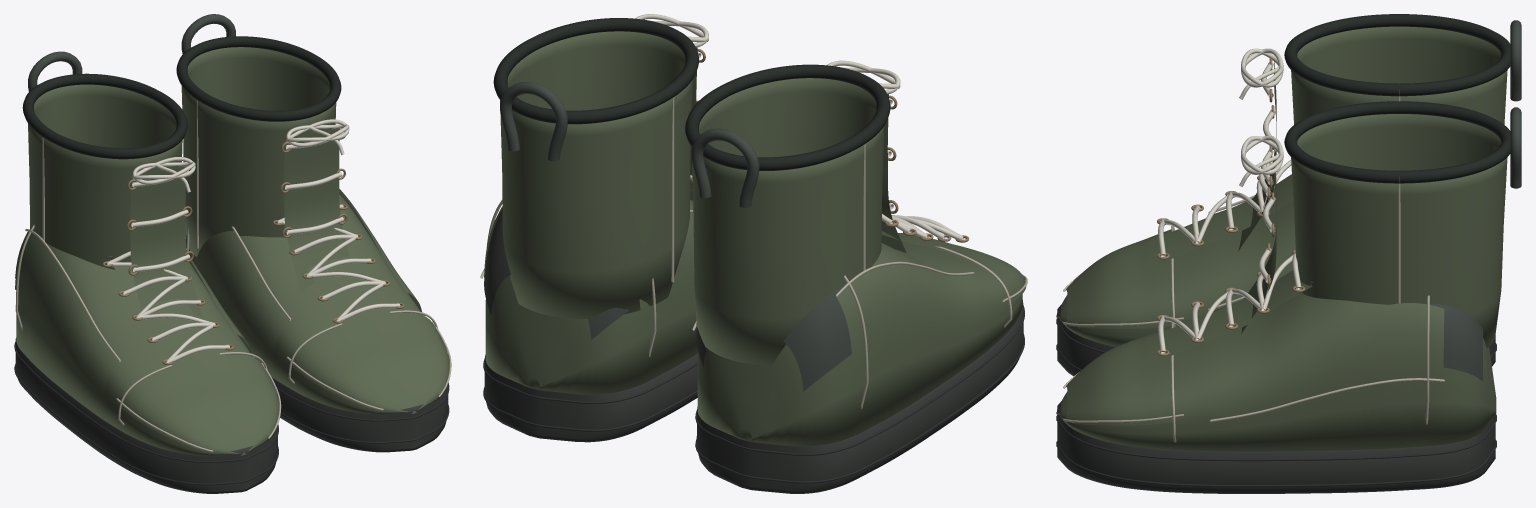
File: ridge.glb
3 views of the same model, side by side, from view 1: azimuth 30°, elevation 25°; view 2: azimuth 150°, elevation 25°; view 3: azimuth 270°, elevation 25° (orthographic). The views are drawn at different scales.
Visible parts, largest first — view 1: boot-01_L_AnkleQuarterComplete, boot-01_R_AnkleQuarterComplete, boot-01_R_UpperComplete, boot-01_L_UpperComplete, boot-01_L_ToeCap, boot-01_R_ToeCap, boot-01_R_OutsoleComplete, boot-01_L_BootTongueComplete, boot-01_R_QuarterPanel_0, boot-01_R_BootTongueComplete, boot-01_L_OutsoleComplete, boot-01_L_QuarterPanel_0 (+14 smaller); view 2: boot-01_L_AnkleQuarterComplete, boot-01_R_AnkleQuarterComplete, boot-01_R_UpperComplete, boot-01_L_UpperComplete, boot-01_R_OutsoleComplete, boot-01_L_OutsoleComplete, boot-01_R_QuarterPanel_0, boot-01_L_PaddedShaftRim, boot-01_R_PaddedShaftRim, boot-01_R_HeelCounter, boot-01_R_HeelPullLoop, boot-01_L_HeelPullLoop (+9 smaller); view 3: boot-01_L_AnkleQuarterComplete, boot-01_L_UpperComplete, boot-01_L_OutsoleComplete, boot-01_L_QuarterPanel_1, boot-01_R_AnkleQuarterComplete, boot-01_L_ToeCap, boot-01_R_ToeCap, boot-01_R_UpperComplete, boot-01_L_PaddedShaftRim, boot-01_R_PaddedShaftRim, boot-01_L_TongueComplete, boot-01_R_TongueComplete (+11 smaller).
Boxes of the visible parts, x1=… form: boot-01_L_AnkleQuarterComplete: x1=181, y1=47, x2=336, y2=256; boot-01_R_AnkleQuarterComplete: x1=28, y1=84, x2=182, y2=269; boot-01_R_UpperComplete: x1=16, y1=243, x2=276, y2=455; boot-01_L_UpperComplete: x1=188, y1=194, x2=446, y2=414; boot-01_L_ToeCap: x1=292, y1=313, x2=449, y2=410; boot-01_R_ToeCap: x1=122, y1=354, x2=279, y2=451; boot-01_R_OutsoleComplete: x1=15, y1=338, x2=277, y2=493; boot-01_L_BootTongueComplete: x1=284, y1=128, x2=349, y2=291; boot-01_R_QuarterPanel_0: x1=15, y1=231, x2=120, y2=393; boot-01_R_BootTongueComplete: x1=130, y1=165, x2=201, y2=316; boot-01_L_OutsoleComplete: x1=272, y1=377, x2=448, y2=452; boot-01_L_QuarterPanel_0: x1=185, y1=231, x2=290, y2=352; boot-01_L_AnkleQuarterComplete: x1=500, y1=31, x2=692, y2=318; boot-01_R_AnkleQuarterComplete: x1=691, y1=78, x2=884, y2=365; boot-01_R_UpperComplete: x1=697, y1=241, x2=1022, y2=446; boot-01_L_UpperComplete: x1=485, y1=200, x2=697, y2=394; boot-01_R_OutsoleComplete: x1=696, y1=303, x2=1023, y2=493; boot-01_L_OutsoleComplete: x1=484, y1=354, x2=697, y2=442; boot-01_R_QuarterPanel_0: x1=836, y1=264, x2=991, y2=367; boot-01_L_PaddedShaftRim: x1=493, y1=18, x2=698, y2=124; boot-01_R_PaddedShaftRim: x1=685, y1=64, x2=890, y2=170; boot-01_R_HeelCounter: x1=696, y1=284, x2=851, y2=391; boot-01_R_HeelPullLoop: x1=691, y1=128, x2=759, y2=207; boot-01_L_HeelPullLoop: x1=500, y1=81, x2=567, y2=161; boot-01_L_AnkleQuarterComplete: x1=1291, y1=114, x2=1507, y2=348; boot-01_L_UpperComplete: x1=1056, y1=293, x2=1496, y2=451; boot-01_L_OutsoleComplete: x1=1057, y1=401, x2=1495, y2=493; boot-01_L_QuarterPanel_1: x1=1209, y1=303, x2=1444, y2=419; boot-01_R_AnkleQuarterComplete: x1=1291, y1=26, x2=1507, y2=124; boot-01_L_ToeCap: x1=1066, y1=326, x2=1173, y2=425; boot-01_R_ToeCap: x1=1066, y1=229, x2=1173, y2=328; boot-01_R_UpperComplete: x1=1056, y1=201, x2=1295, y2=346; boot-01_L_PaddedShaftRim: x1=1284, y1=101, x2=1510, y2=183; boot-01_R_PaddedShaftRim: x1=1284, y1=14, x2=1510, y2=96; boot-01_L_TongueComplete: x1=1147, y1=270, x2=1311, y2=364; boot-01_R_TongueComplete: x1=1147, y1=174, x2=1293, y2=267.
Size of the model in its own units: 0.3643 by 0.315 by 0.3907.
